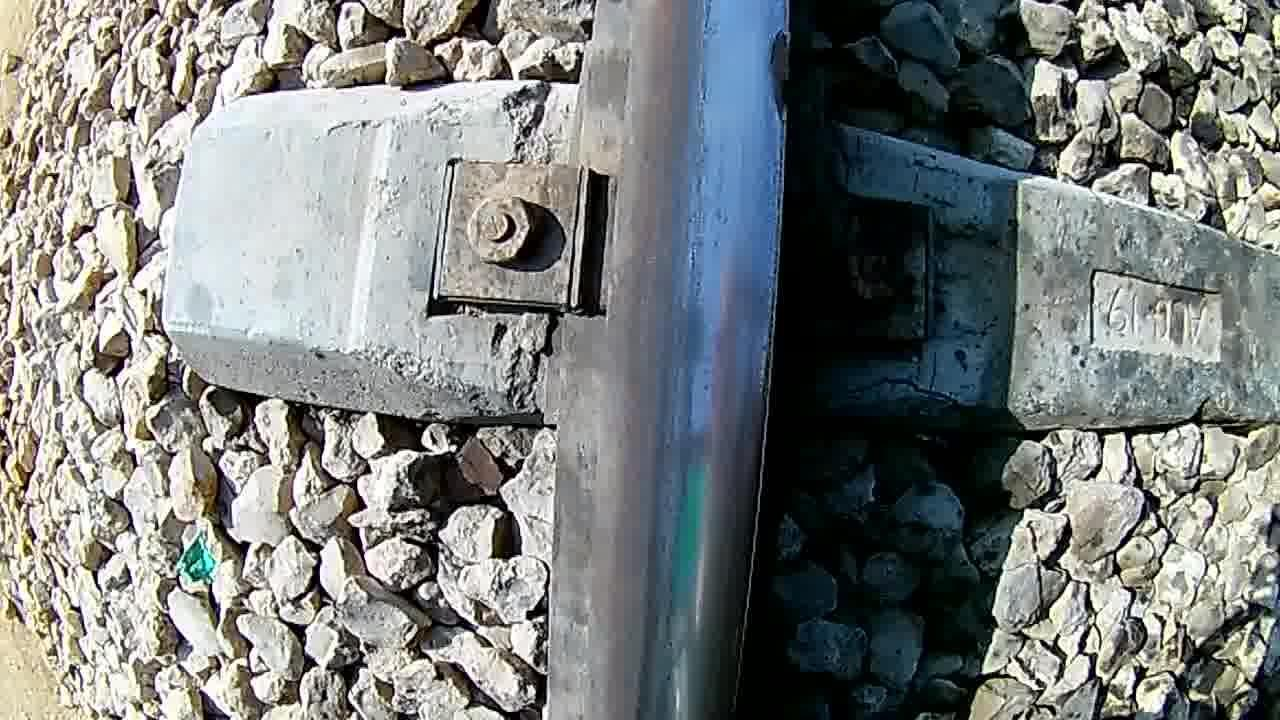crack: (592, 126, 788, 720)
